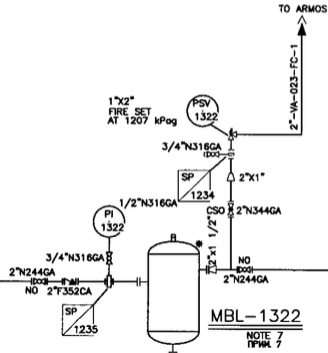Instrument-offset: (181, 91, 224, 133), (89, 204, 129, 240)
